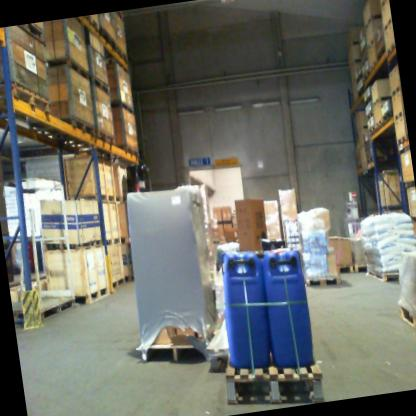pallet: (218, 342, 326, 415), (139, 336, 208, 370), (0, 78, 52, 120), (46, 53, 90, 86), (42, 233, 103, 254), (55, 112, 96, 143), (365, 259, 404, 288), (74, 190, 126, 208), (16, 21, 47, 49), (72, 286, 110, 306), (206, 344, 231, 374), (400, 302, 416, 348), (303, 273, 340, 291), (98, 25, 117, 53), (89, 74, 111, 97), (110, 98, 136, 117), (94, 125, 116, 147), (117, 142, 140, 159), (84, 14, 100, 34), (362, 14, 382, 30), (116, 43, 128, 64), (371, 94, 392, 106), (381, 108, 394, 124), (381, 14, 393, 31), (395, 133, 409, 147), (111, 275, 126, 288), (384, 40, 396, 56), (337, 264, 354, 275), (392, 108, 406, 121), (105, 236, 121, 247), (380, 204, 402, 212), (390, 83, 402, 97), (365, 37, 377, 50), (361, 67, 372, 81), (354, 262, 367, 273), (119, 234, 130, 246), (374, 117, 384, 129), (364, 94, 373, 107), (367, 122, 376, 135), (365, 109, 374, 121), (379, 0, 390, 9), (365, 154, 374, 164), (368, 61, 377, 70), (124, 274, 134, 282), (405, 180, 415, 188), (411, 214, 416, 224)
